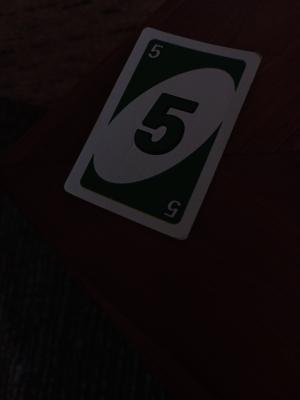num_5: (159, 193, 184, 220), (145, 43, 164, 62)
